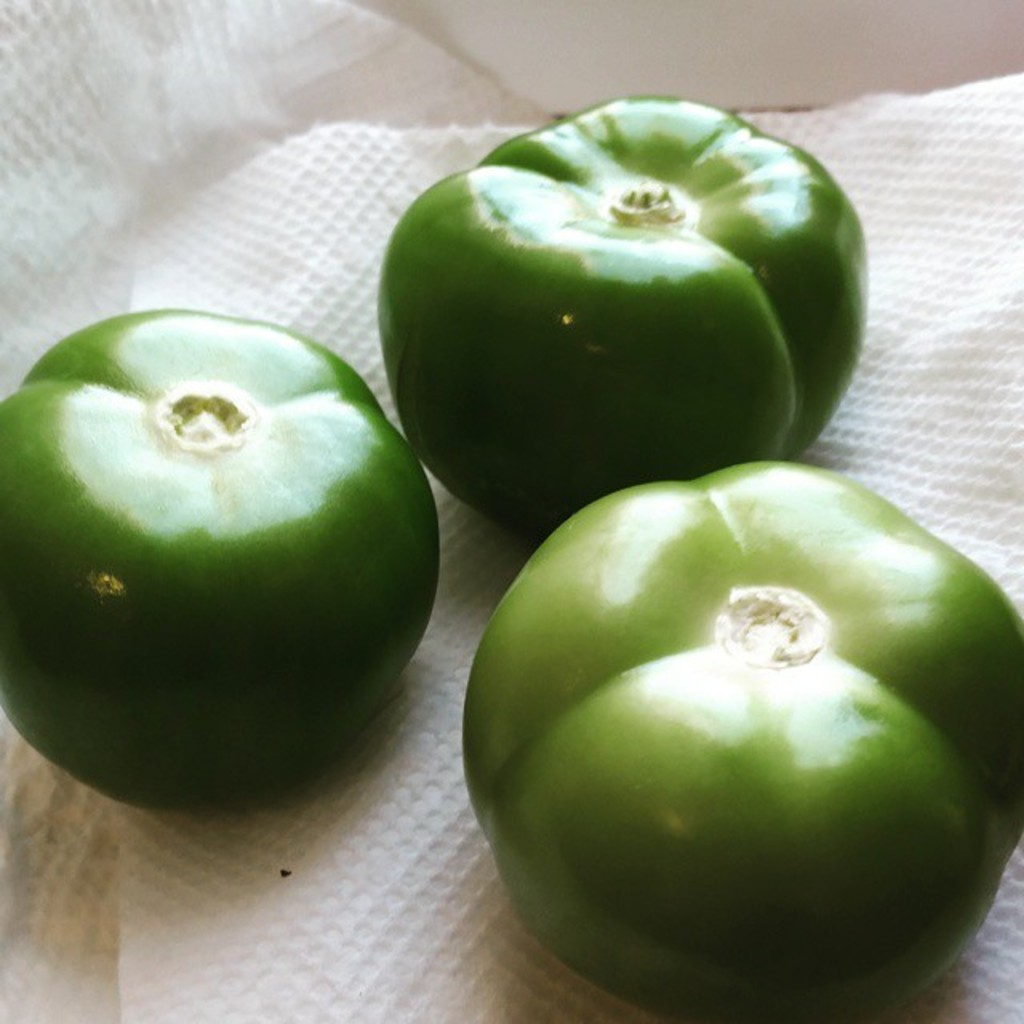Tomato: (461, 458, 1022, 1022), (0, 311, 439, 810), (375, 96, 868, 539)
